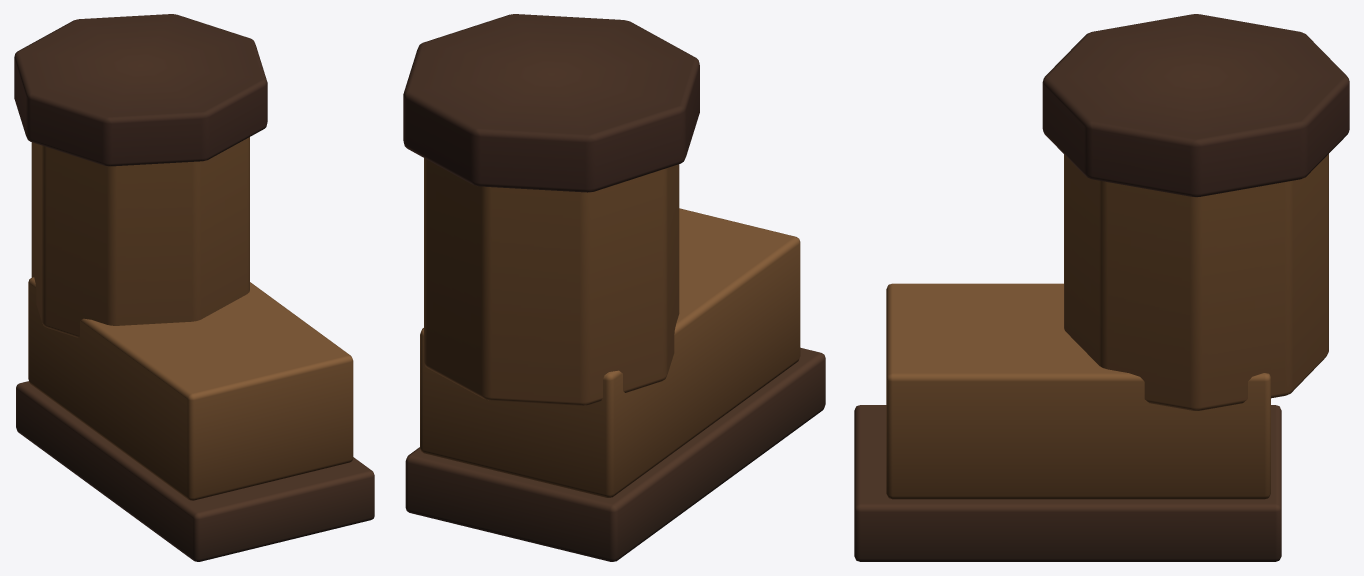
Rendered from leather_boots.glb.
3 renders of one model, left to right at view 1: azimuth 30°, elevation 25°; view 2: azimuth 150°, elevation 25°; view 3: azimuth 270°, elevation 25°, orthographic. The views are drawn at different scales.
Visible parts, largest first — view 1: leather_boots; view 2: leather_boots; view 3: leather_boots.
Part boxes in pixels (x1,y1,x2,y2): leather_boots: (14, 14, 374, 561); leather_boots: (403, 14, 825, 561); leather_boots: (854, 14, 1349, 561).
Size of the model in its own units: 0.5746 by 0.9 by 0.9273.
